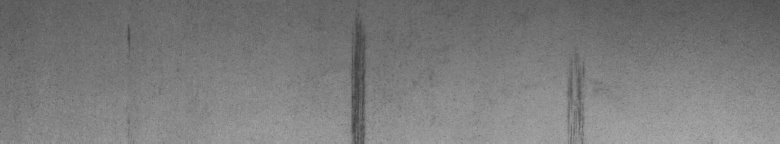hd: (341, 16, 372, 136)
